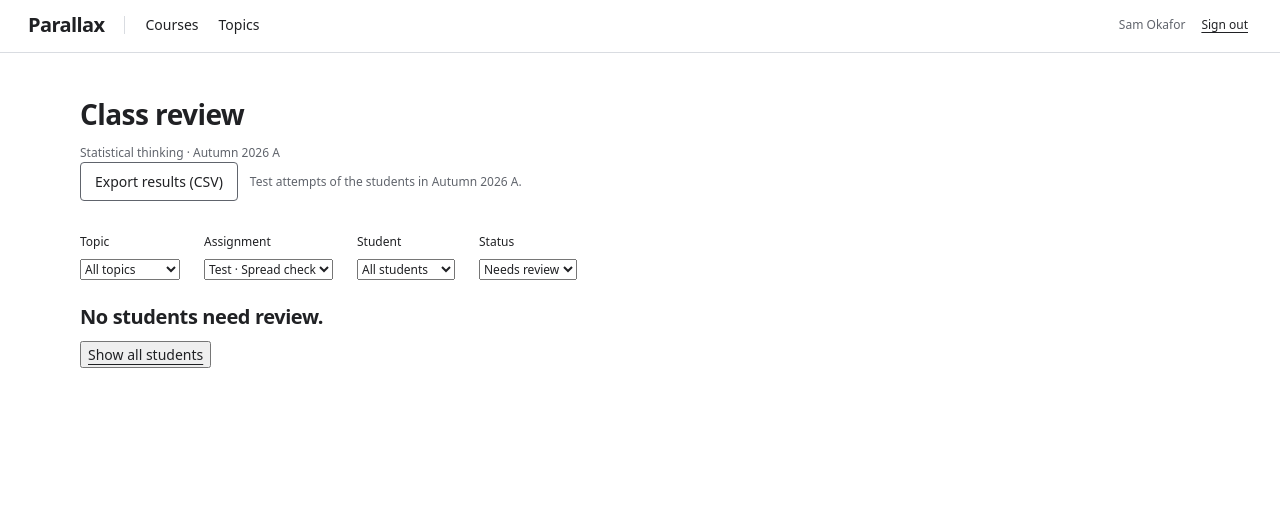
class review table › A25 with no student left in Needs review the empty state offers Show all students, with every released grade retained
The image size is (1280, 527).
Expected: the heading "No students need review." is shown, [80,303,323,330]
Click the button "Show all students" at (146, 354), box [80,341,211,368]
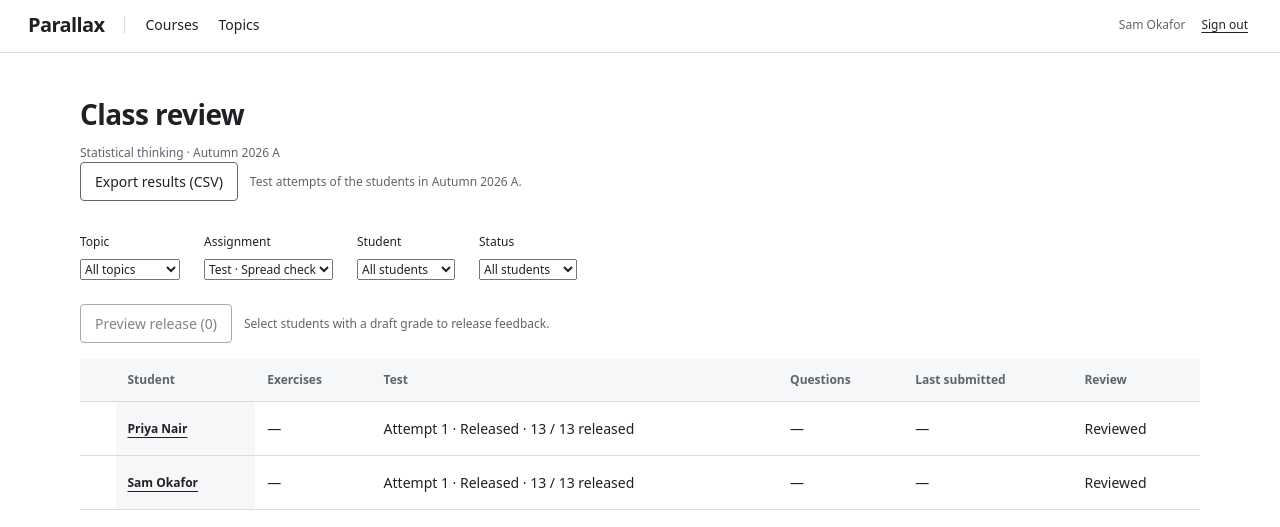
Expected: the text "Attempt 1 · Released · 13 / 13 released" is shown 2 times, [372,402,778,456]; [372,456,778,510]
Expected: the dropdown labelled "Status" shows "All students", [479,259,577,280]
